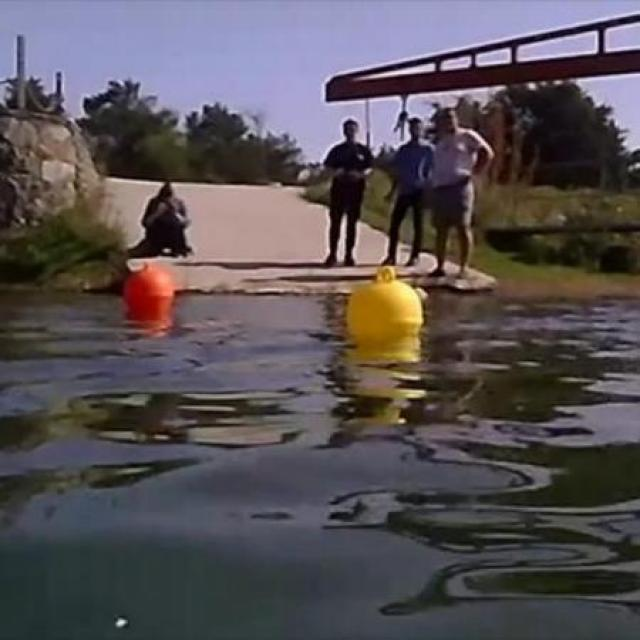buoy: (347, 264, 425, 340), (122, 262, 178, 321)
